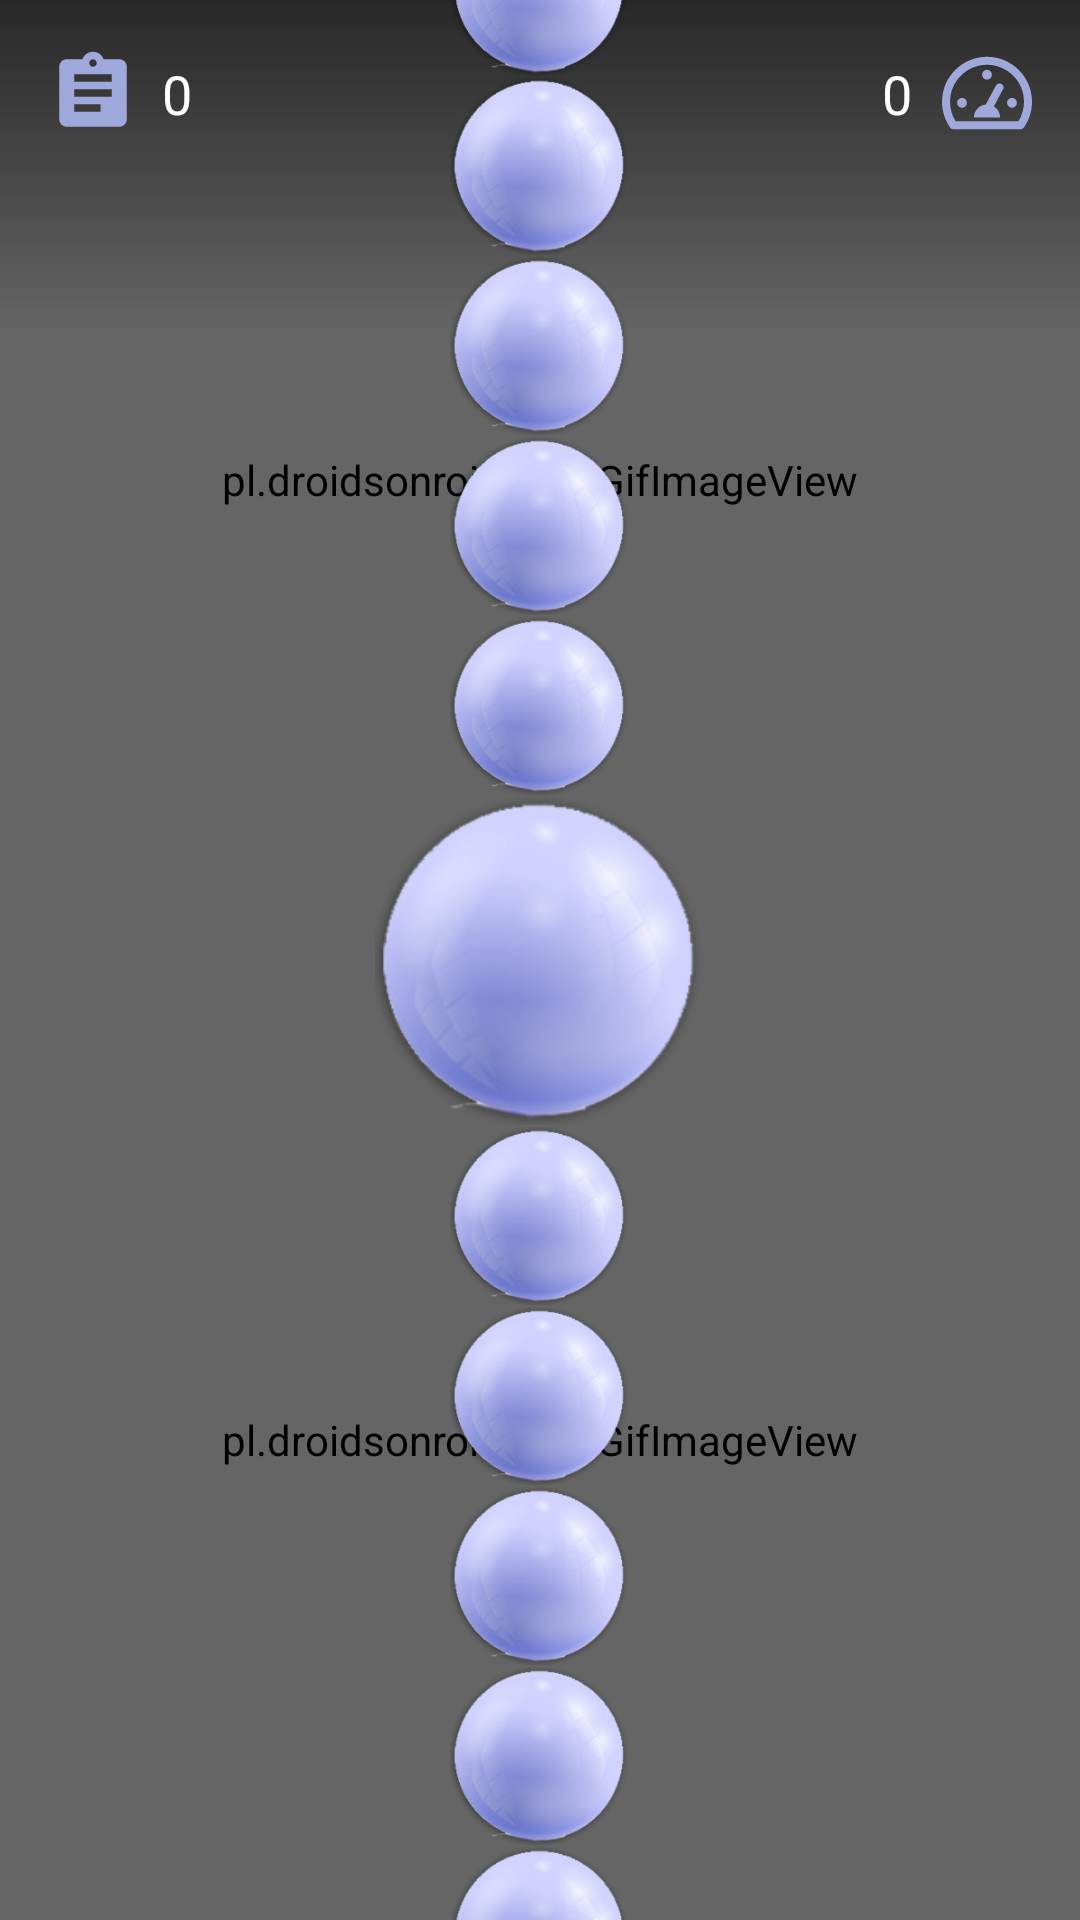

Icon bounding boxes for this 1080*1920 phone screenshot, format (x1, y1, x2, y2):
bead: (383, 804, 693, 1116)
